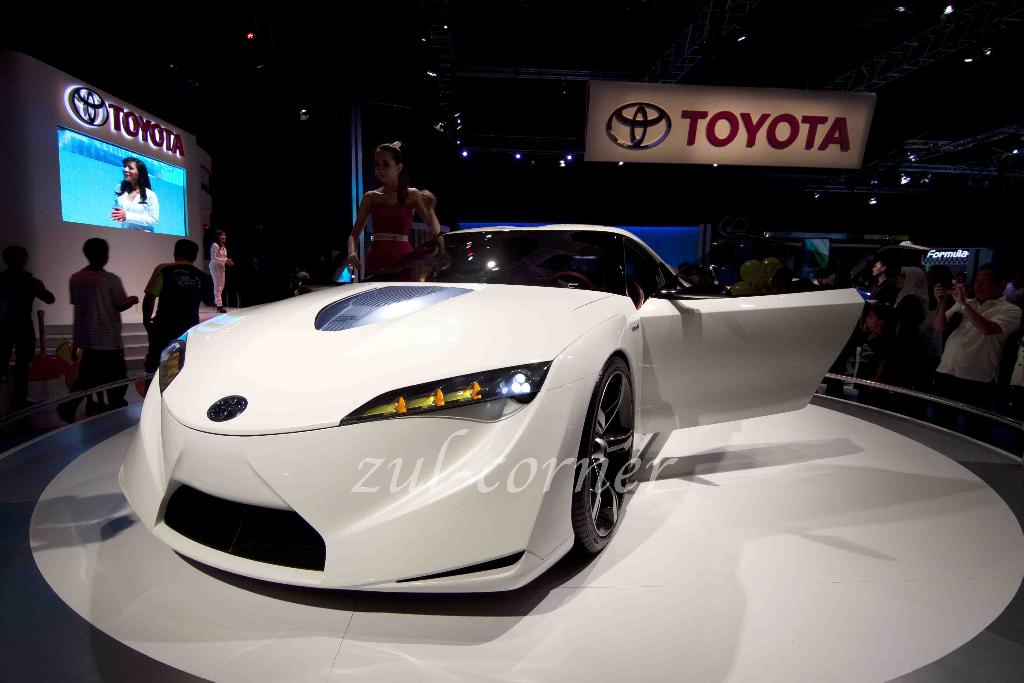person: (864, 263, 939, 418)
